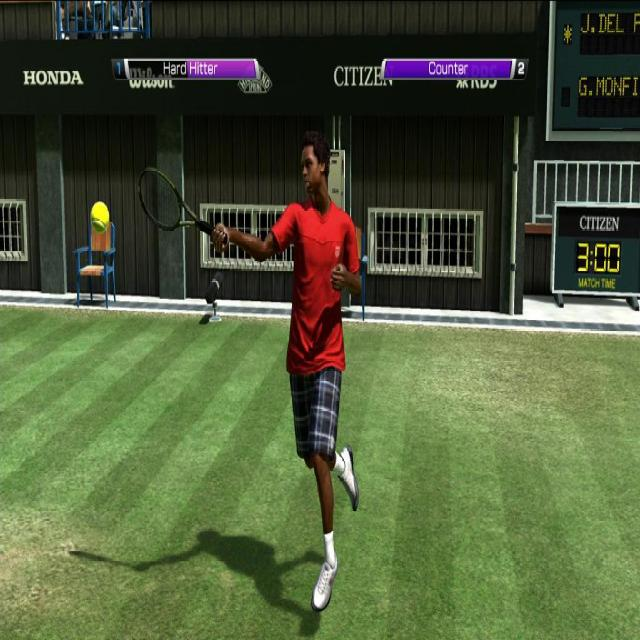nomask: (300, 149, 320, 191)
